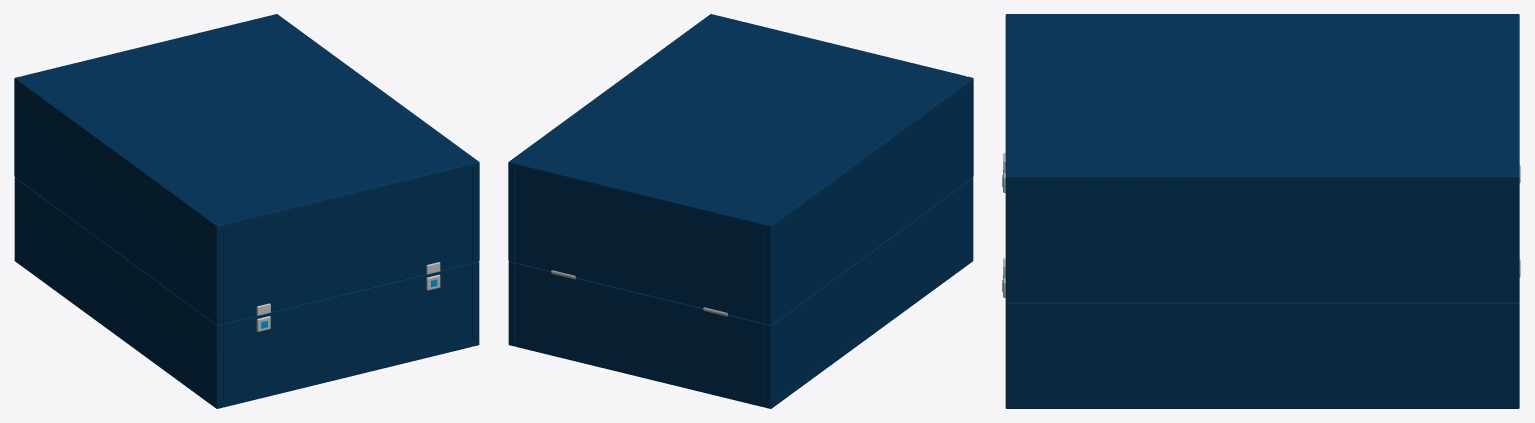
The model's file is case-volume-6-storage.glb.
3 renders of one model, left to right at view 1: azimuth 30°, elevation 25°; view 2: azimuth 150°, elevation 25°; view 3: azimuth 270°, elevation 25°, orthographic. The views are drawn at different scales.
Visible parts, largest first — view 1: Lid_top, Lid_end, Lid_side, Tray_end, Tray_side, Base, Lid_side.001, Lid_end.001, Tray_side.001; view 2: Lid_top, Lid_end.001, Lid_side, Tray_end.001, Tray_side, Lid_side.001, Base, Lid_end, Tray_side.001; view 3: Lid_top, Lid_side.001, Tray_side.001, Lid_side, Lid_end, Lid_end.001, Base.
Boxes of the visible parts, box(x1,y1,x2,y2) form: Lid_top: box(15, 15, 477, 231); Lid_end: box(221, 161, 472, 323); Lid_side: box(14, 76, 223, 324); Tray_end: box(223, 263, 472, 407); Tray_side: box(14, 177, 223, 408); Base: box(15, 256, 477, 407); Lid_side.001: box(271, 14, 479, 262); Lid_end.001: box(22, 15, 272, 78); Tray_side.001: box(472, 261, 479, 346); Lid_top: box(510, 15, 972, 230); Lid_end.001: box(515, 161, 765, 323); Lid_side: box(764, 76, 973, 324); Tray_end.001: box(515, 263, 764, 407); Tray_side: box(764, 177, 973, 408); Lid_side.001: box(508, 14, 716, 262); Base: box(510, 287, 933, 407); Lid_end: box(715, 15, 965, 78); Tray_side.001: box(508, 261, 515, 346); Lid_top: box(1006, 17, 1518, 183); Lid_side.001: box(1005, 172, 1519, 302); Tray_side.001: box(1005, 302, 1519, 408); Lid_side: box(1005, 14, 1519, 18); Lid_end: box(1005, 18, 1014, 172); Lid_end.001: box(1510, 18, 1519, 172); Base: box(1008, 402, 1516, 407).
Size of the model in its own units: 0.2286 by 0.1539 by 0.3072.
4 materials, 2 textured.
